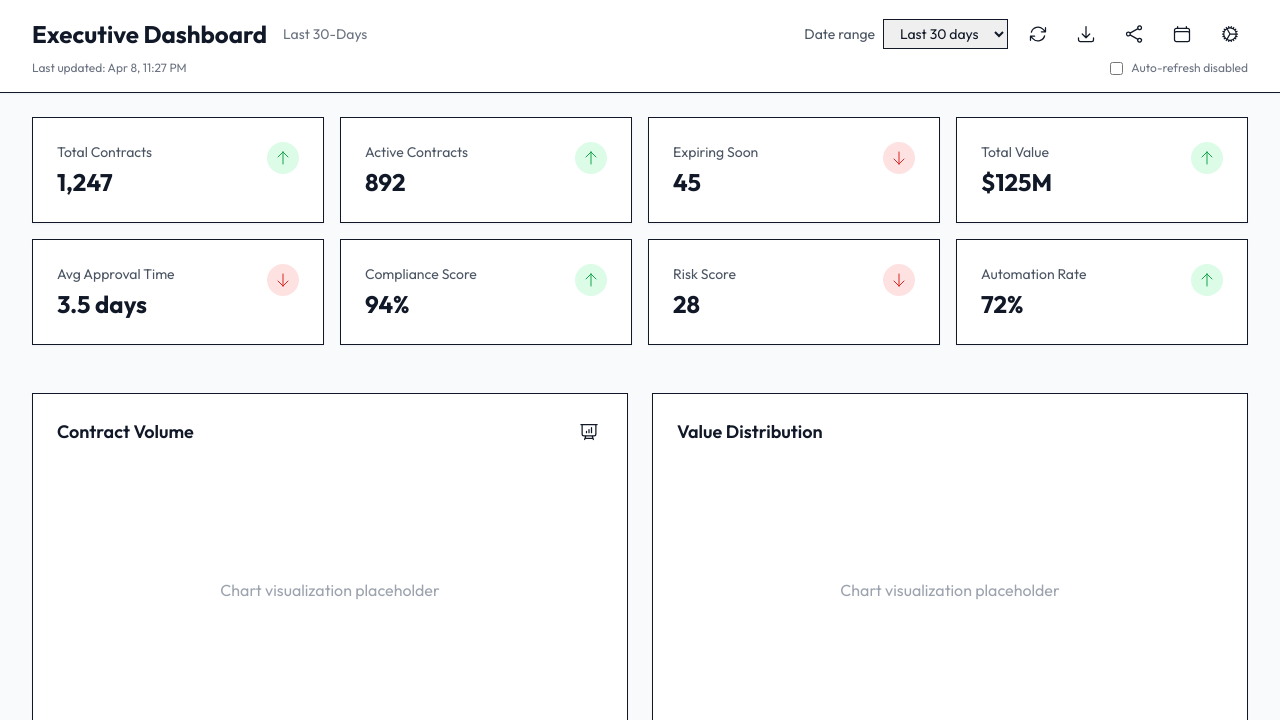
Test: ExecutiveDashboard › Report Scheduling › should open report scheduling dialog
Click the button named "schedule report": click(1182, 34) [1164,16,1200,52]
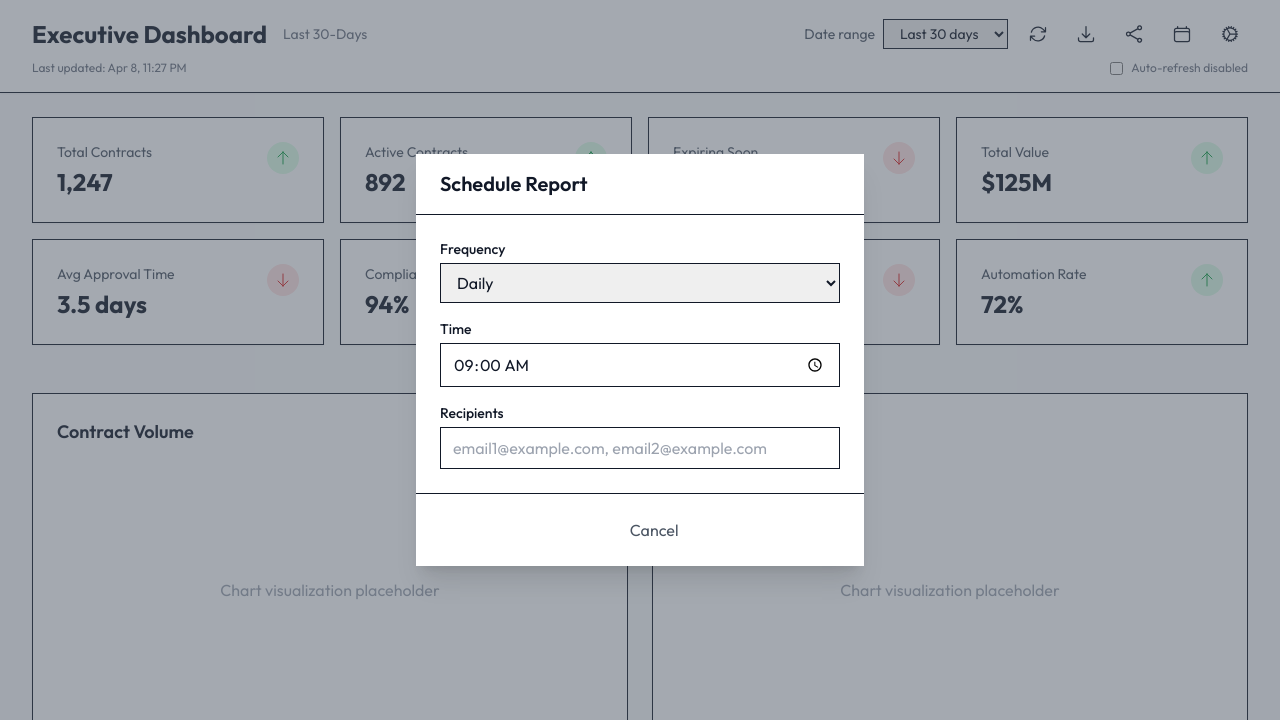
Check: the element with test id "schedule-dialog" is shown
